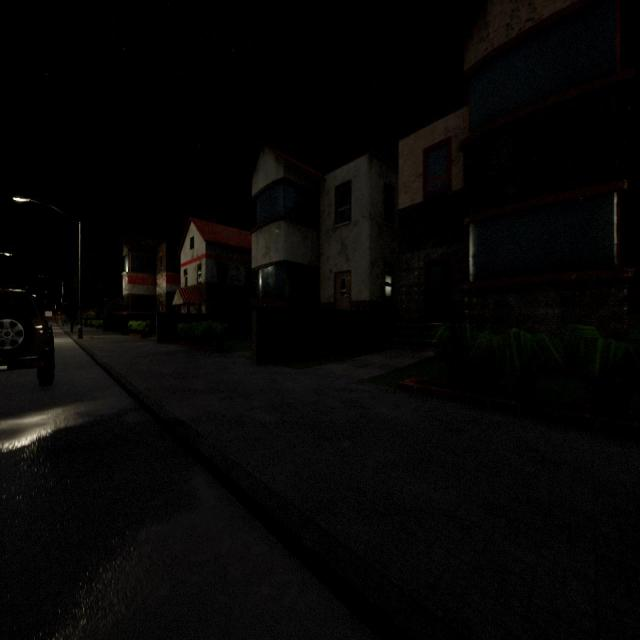Vehicle: (0, 289, 54, 385)
